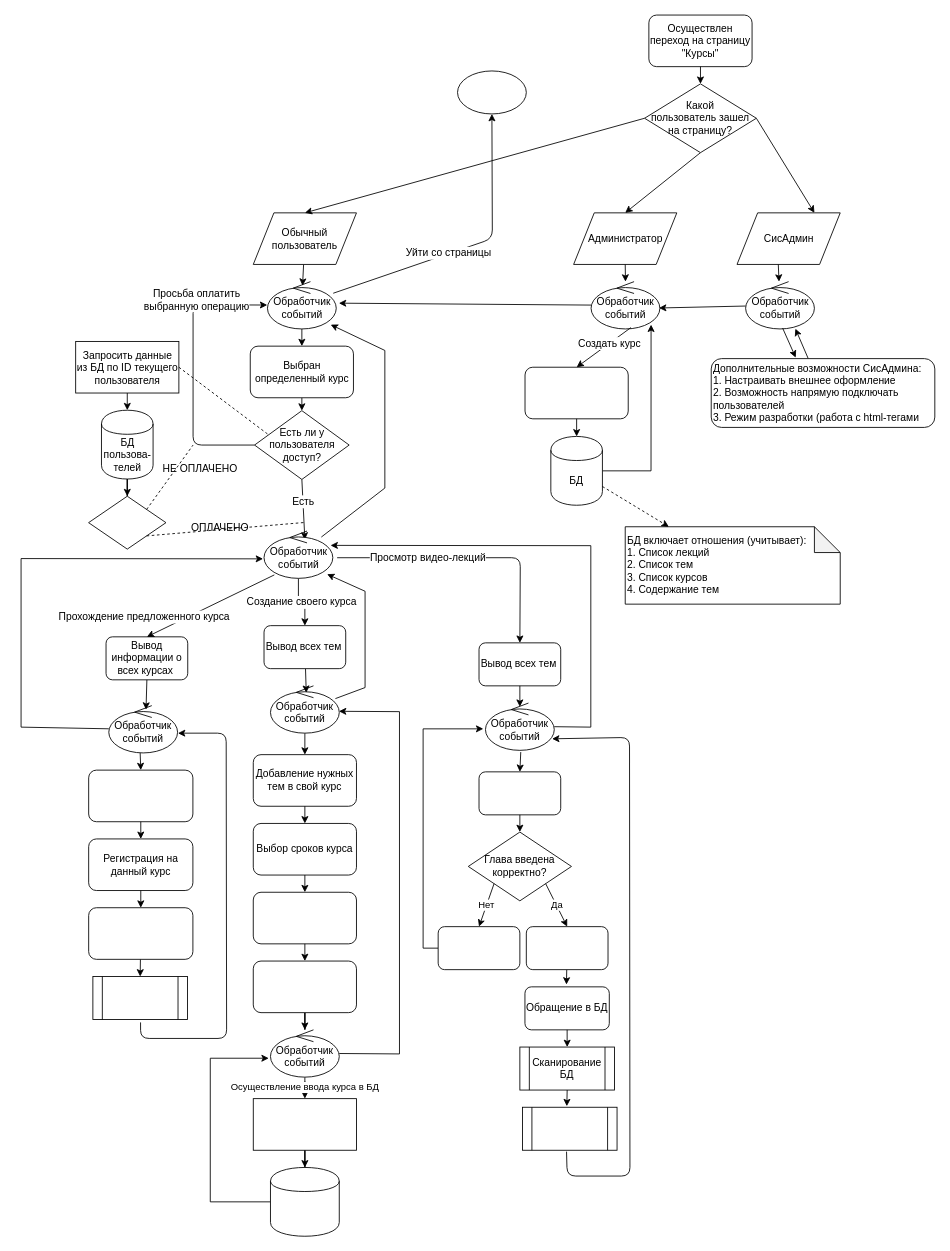
Image size: 950x1251. Some labels were removed from this diagram. The centre of each missing label's shape, as x and y in pixels:
БД курсов: [304,1201]
Ввод Запроса: [519,793]
Ввод необходимых данных о себе: [304,917]
Выбор курса по нужной теме: [140,795]
Вывод нужной информации: [569,1128]
Выдача доступа к данному курсу: [140,933]
Завершение создания курса: [304,986]
Конец: [491,92]
Обновление БД: [139,998]
Обновление соответствующего атрибута: [304,1124]
Поиск нужной главы: [566,948]
Проверить статус: [127,522]
Просьба ввести данные повторно: [478,948]
Создаётся курс в БД: [576,392]
